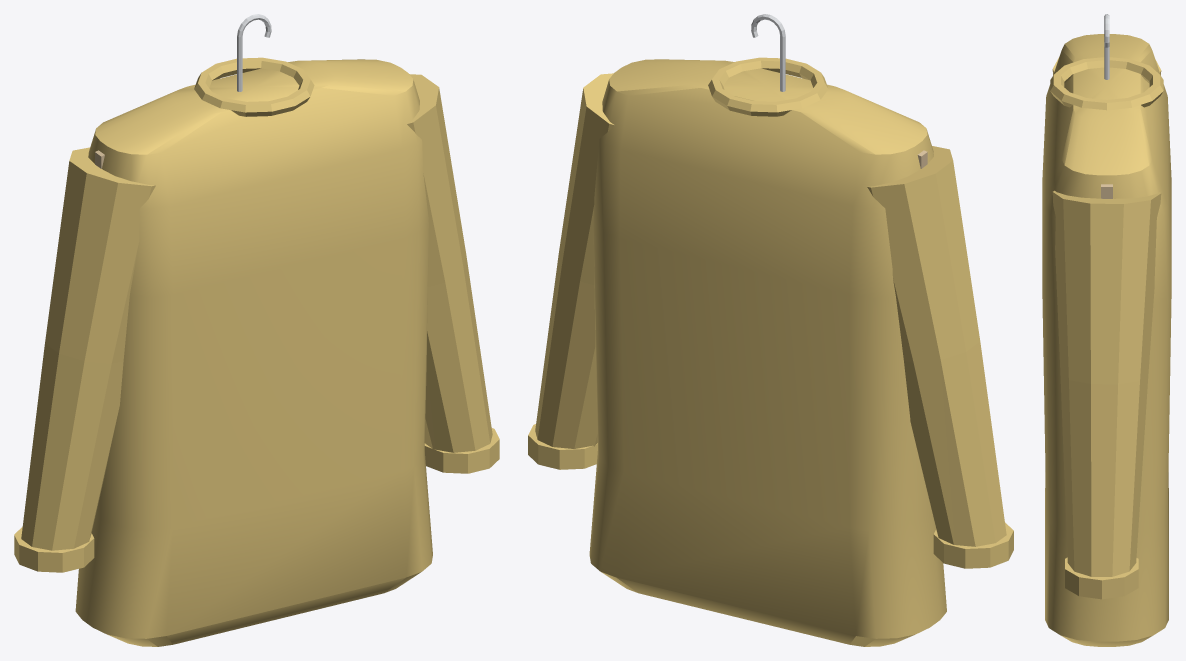
Rendered from clothing-rail-and-wardrobe-jumper-on-hanger-35cf7f37__35451.glb.
3 views of the same model, side by side, from view 1: azimuth 30°, elevation 25°; view 2: azimuth 150°, elevation 25°; view 3: azimuth 270°, elevation 25° (orthographic). The views are drawn at different scales.
Visible parts, largest first — view 1: jumper-on-hanger; view 2: jumper-on-hanger; view 3: jumper-on-hanger.
Boxes of the visible parts, box(x1,y1,x2,y2) form: jumper-on-hanger: box(14, 14, 499, 646); jumper-on-hanger: box(528, 14, 1013, 646); jumper-on-hanger: box(1042, 14, 1171, 646).
Size of the model in its own units: 0.654 by 0.7713 by 0.16.
